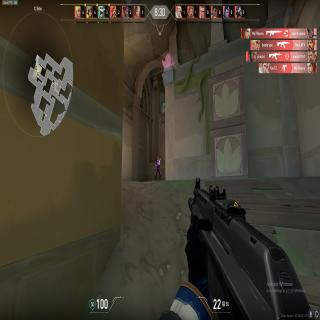ENEMY-BODY: (155, 156, 161, 180)
ENEMY-HEAD: (157, 156, 159, 160)
